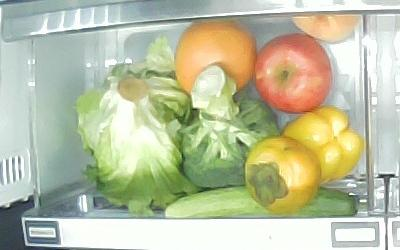apple: (254, 34, 332, 114)
broccoli: (180, 66, 281, 189)
cucumber: (164, 186, 358, 219)
grapefruit: (175, 21, 256, 97)
lettuce: (76, 63, 205, 215)
paprika: (282, 106, 363, 185)
peach: (292, 14, 360, 43)
persimmon: (245, 136, 321, 215)
